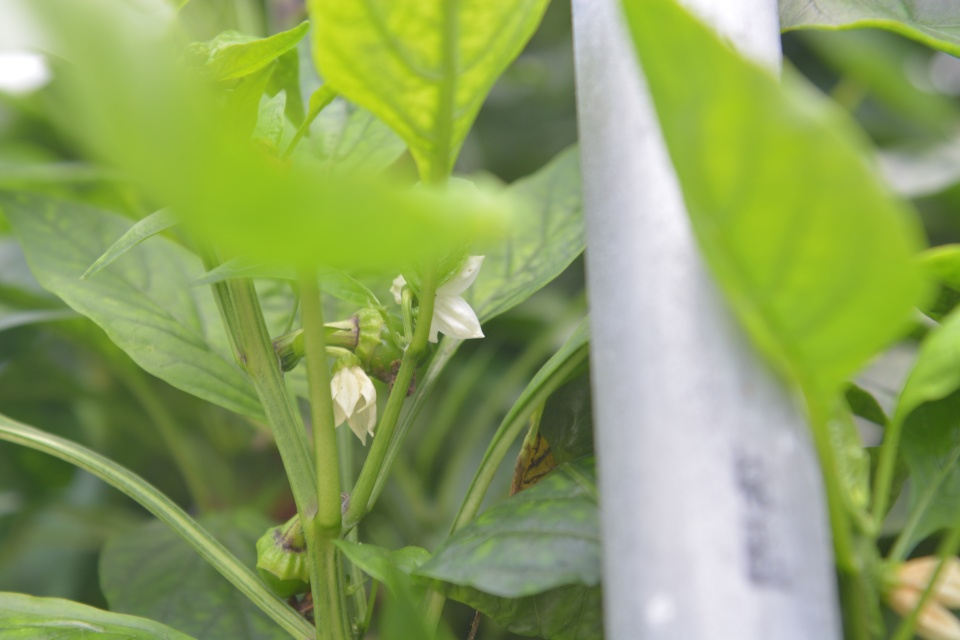flower: (388, 253, 492, 345), (328, 365, 380, 448)
immature: (350, 305, 435, 378), (253, 521, 315, 601)
